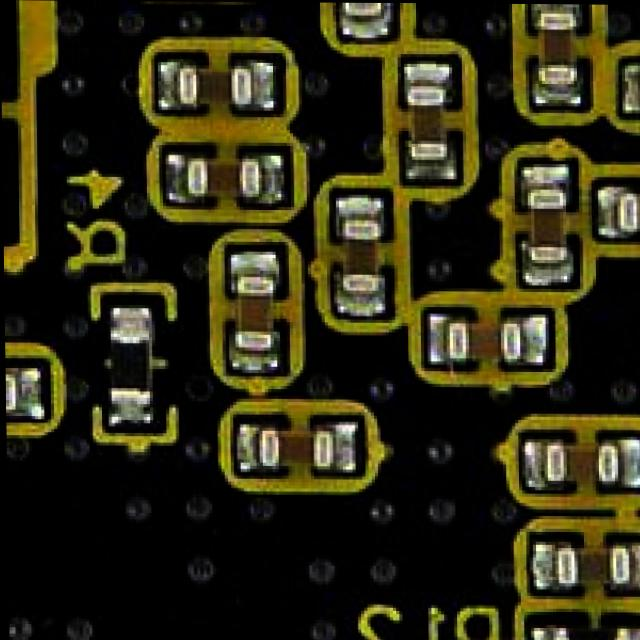IC: (0, 0, 38, 253)
resistor: (100, 285, 175, 436), (519, 608, 640, 640)
unknown: (422, 287, 567, 381), (155, 132, 300, 219), (510, 144, 586, 307), (222, 401, 380, 479), (220, 235, 302, 379), (524, 515, 640, 615), (316, 184, 397, 326), (514, 416, 640, 503), (394, 44, 466, 188), (157, 46, 293, 117), (518, 3, 593, 112), (4, 339, 60, 432), (584, 163, 640, 244), (329, 2, 407, 37), (615, 42, 640, 125)
